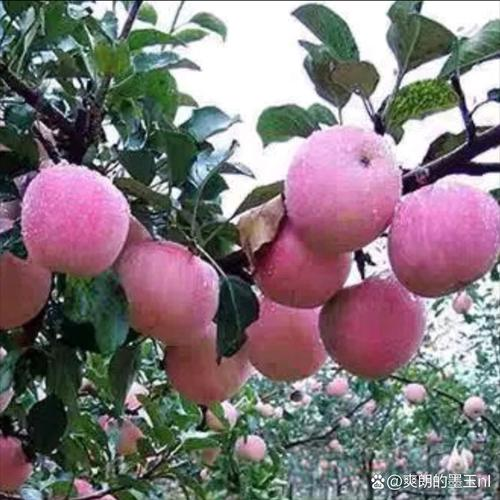ripe: (277, 128, 407, 253), (117, 226, 230, 349), (19, 158, 130, 278), (316, 276, 431, 378), (250, 204, 356, 312), (239, 292, 328, 383), (170, 313, 254, 403)
